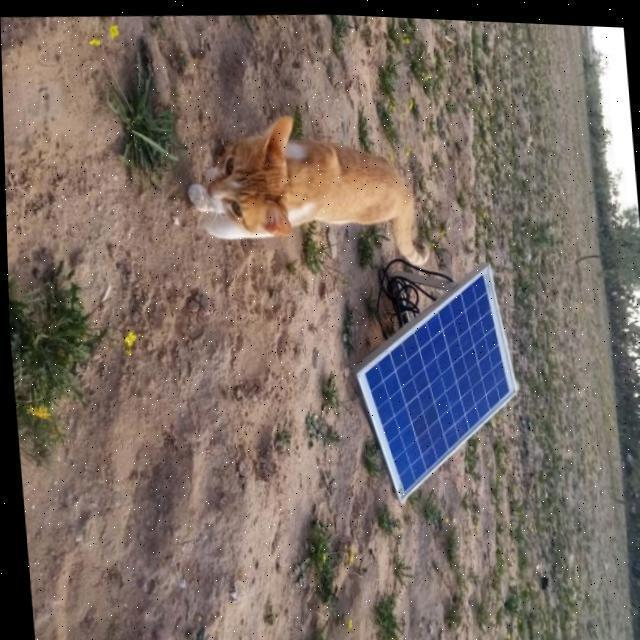Normal Solar Panel: (346, 255, 524, 502)
